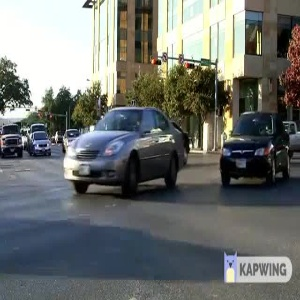car: (63, 104, 196, 200), (214, 104, 289, 194)
